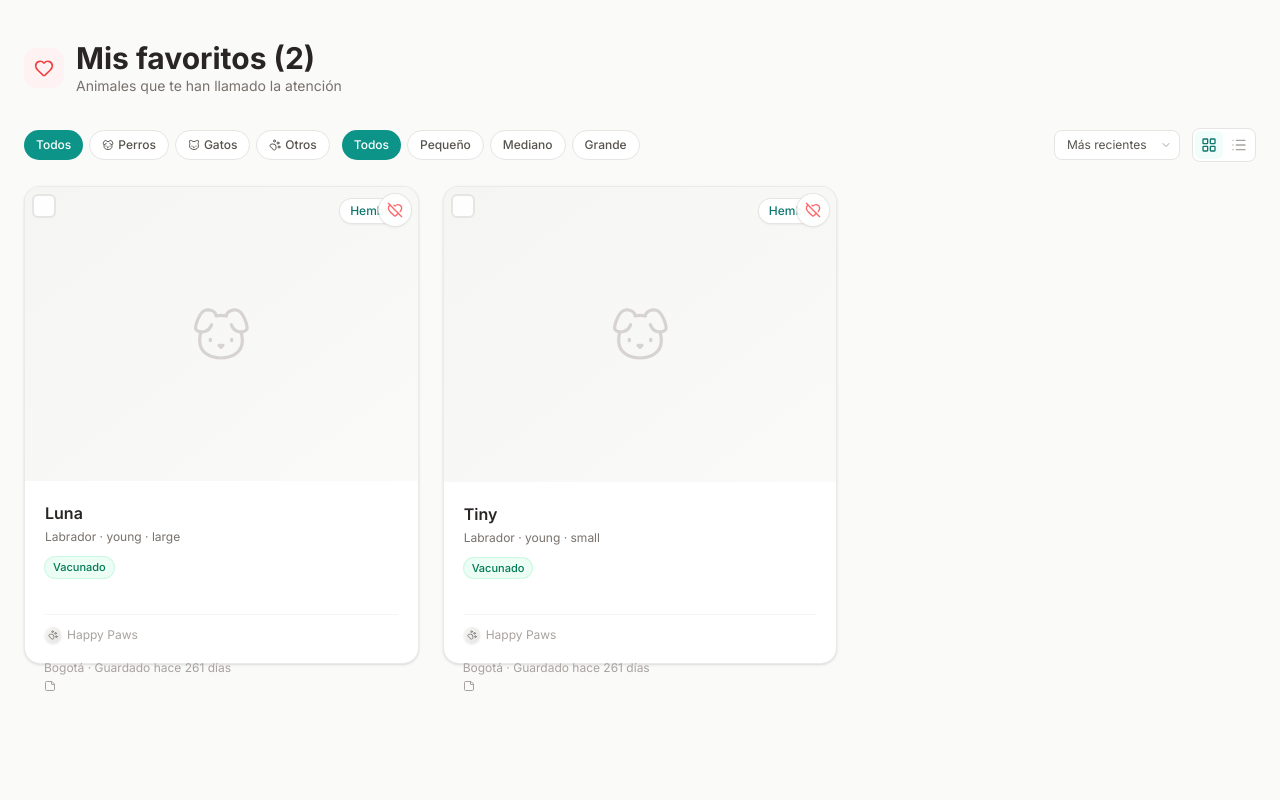
Scenario: FavoritosPage › filters by size when size chip is clicked
Expected: the heading "Luna" is shown, [45,504,83,524]
Expected: the heading "Tiny" is shown, [464,504,497,524]
Click the button "Pequeño" at coordinates (445, 145), box [407,130,484,160]
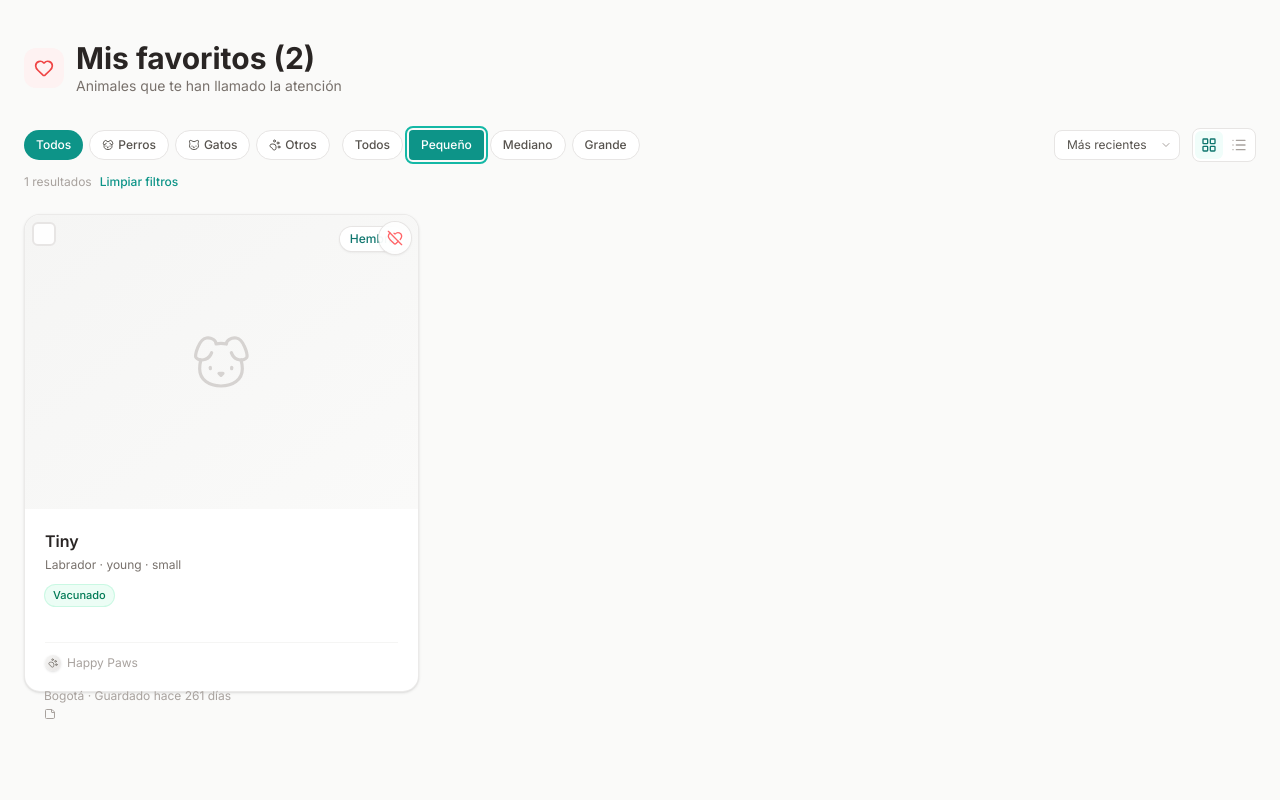
Expected: the heading "Tiny" is shown, [45,532,79,552]
Expected: the link "Luna" is gone
